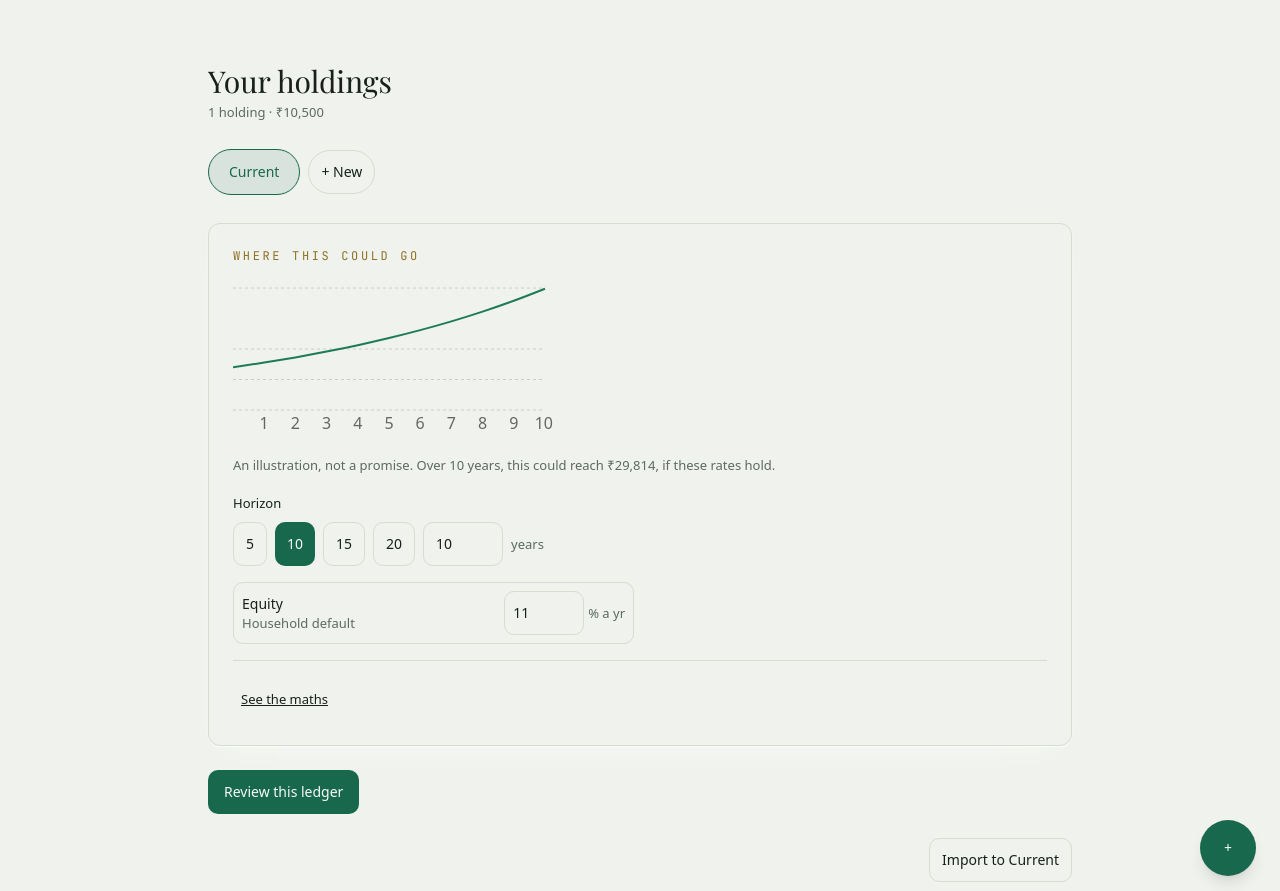
Test: Portfolio — Apply on an AI suggestion creates a new, empty ledger (M3c) › clears the suggestion card and says plainly that the new plan is empty
Click the button "Review this ledger". click: {"x": 284, "y": 792}
box: [208,770,359,814]
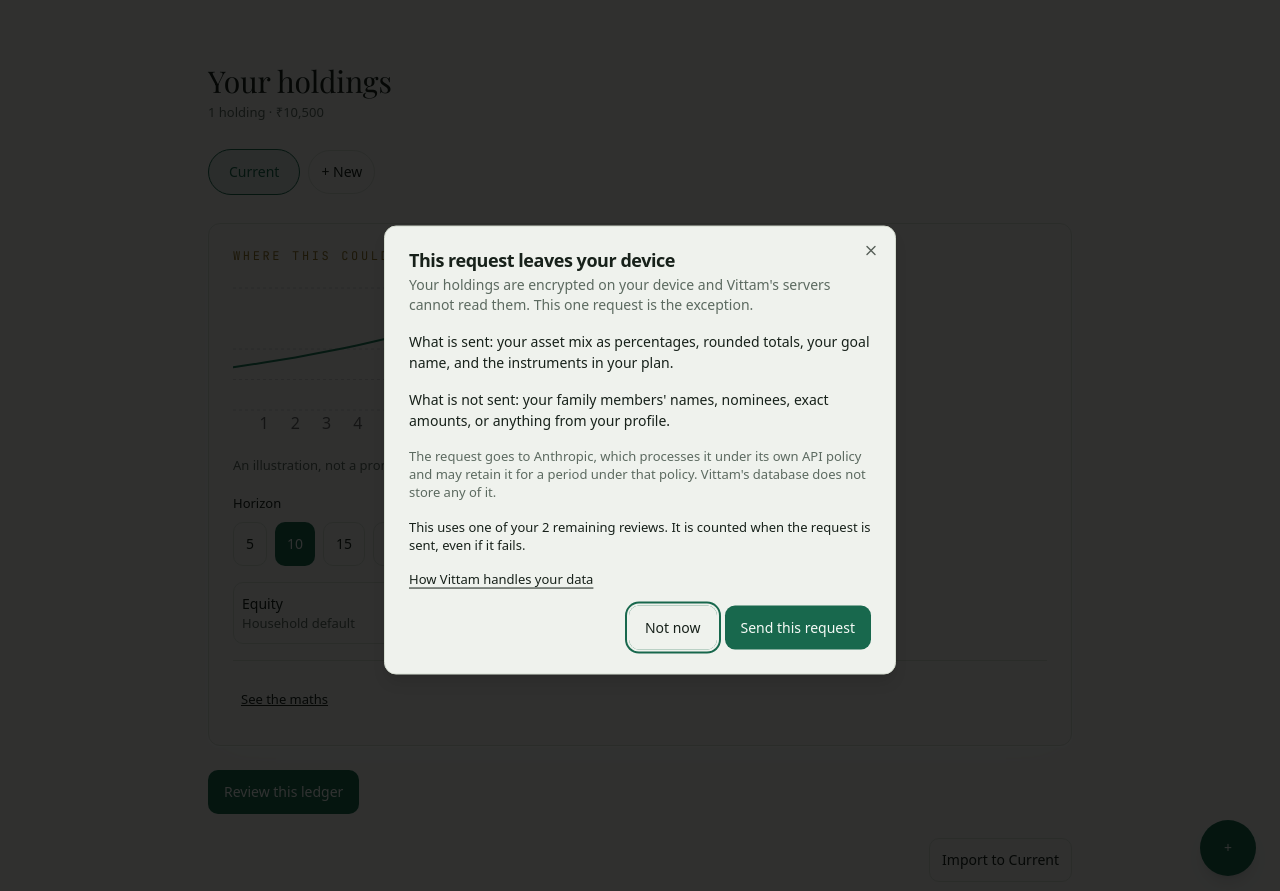
Click the button "Send this request". click: {"x": 798, "y": 628}
box: [724,606,871,650]
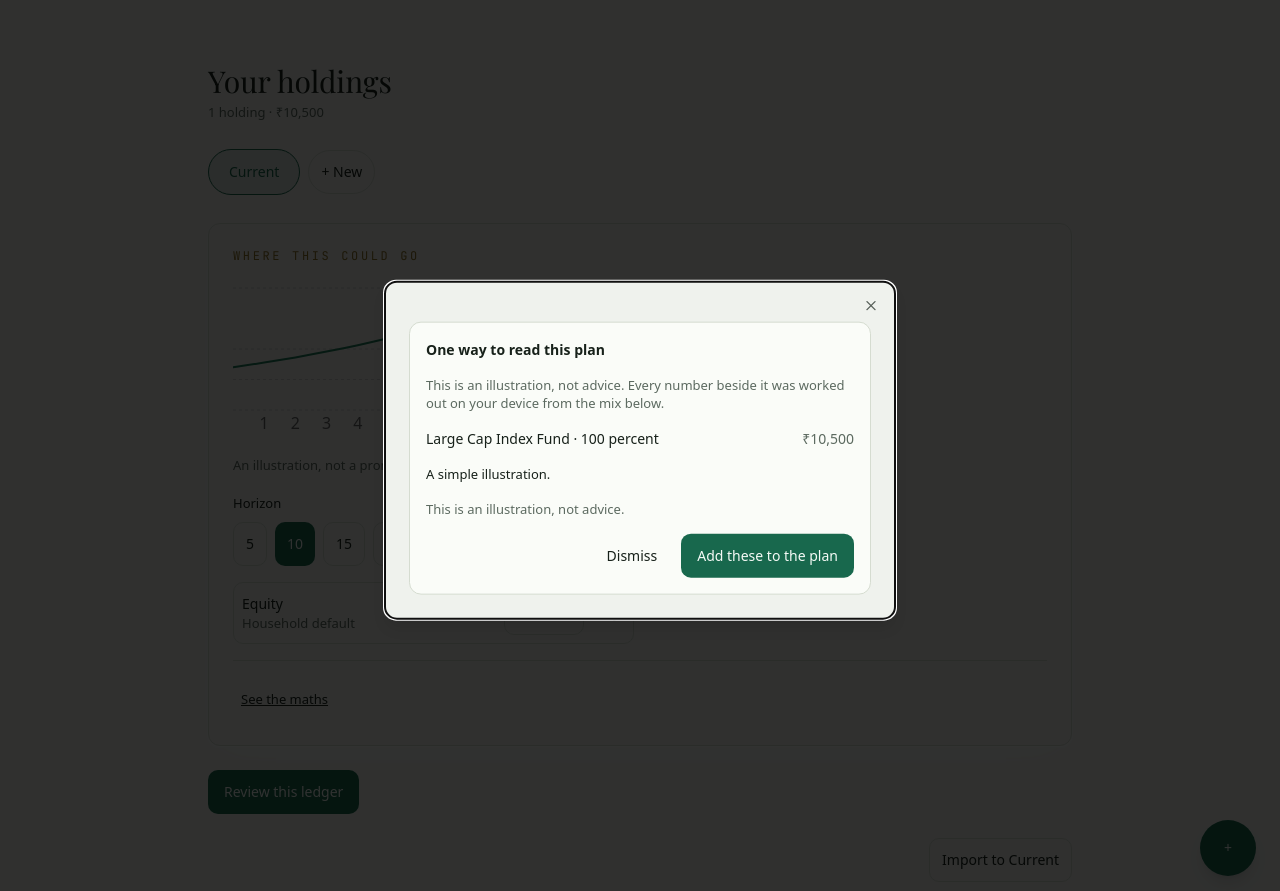
Result: the list with test id "ai-suggestion-allocations" is shown at [426,428,854,449]
Click the button "Add these to the plan". click: {"x": 768, "y": 555}
box: [681,533,854,577]
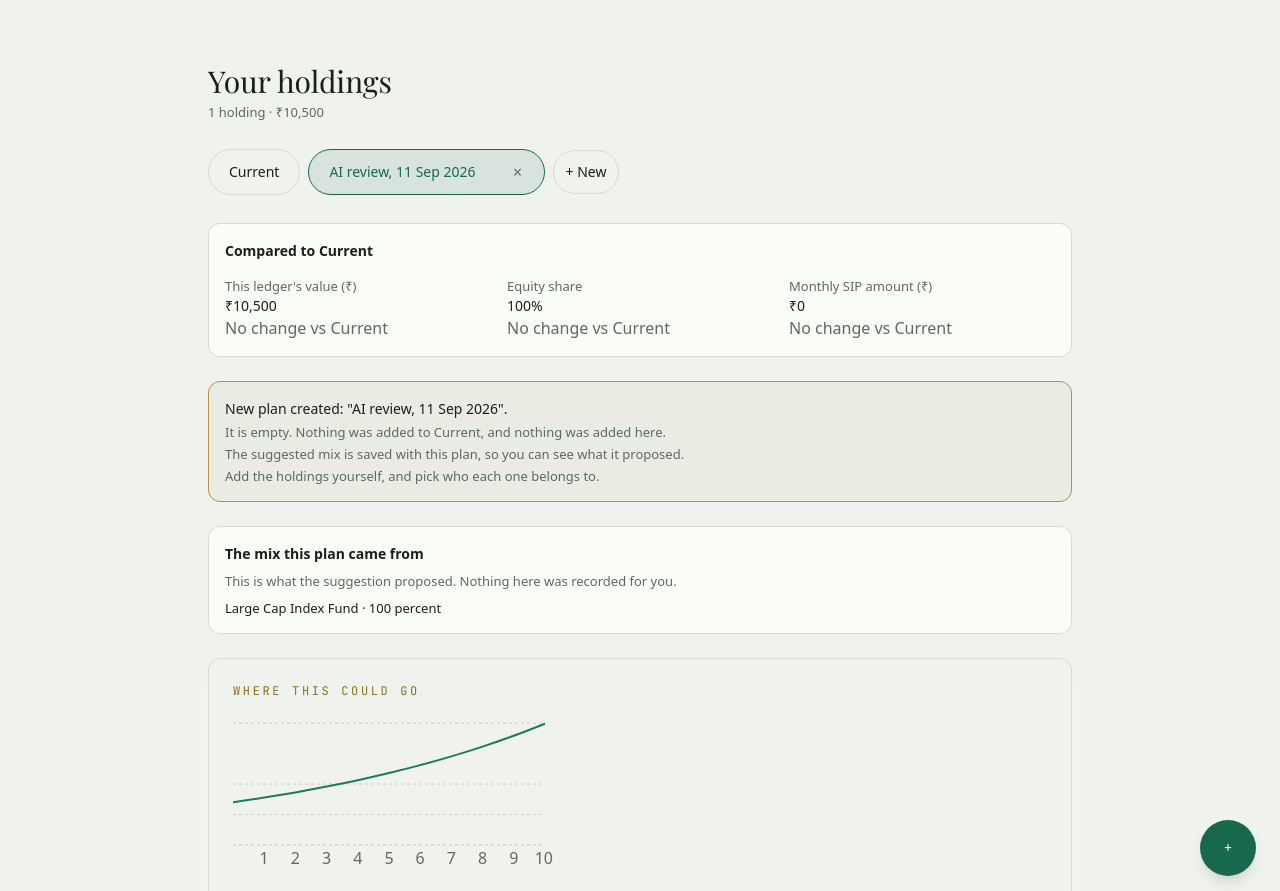
Result: the message with test id "apply-suggestion-notice" shows "AI review, 11 Sep 2026" at [352,399,498,418]
Result: the message with test id "apply-suggestion-notice" shows "It is empty" at [225,423,666,441]
Result: the message with test id "apply-suggestion-notice" shows "add the holdings yourself" at [225,467,600,485]
